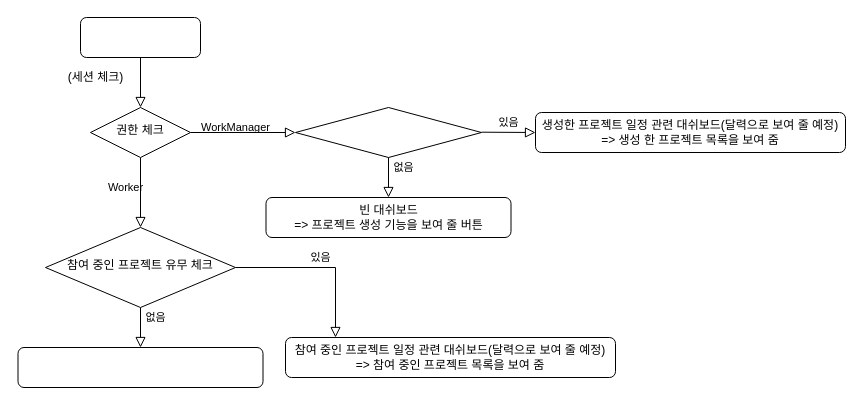
The diagram is 863 pixels wide and 405 high, and some of its shapes have lost their labels. The box of each missing label's shape, as (x1, y1, x2, y2) in pixels:
빈 대쉬보드 => 참여 가능한 프로젝트 목록을 보여 줄 링크: (17, 346, 263, 388)
사용자가 로그인 함: (80, 16, 200, 58)
생성한 프로젝트 유무 체크: (294, 106, 482, 158)
